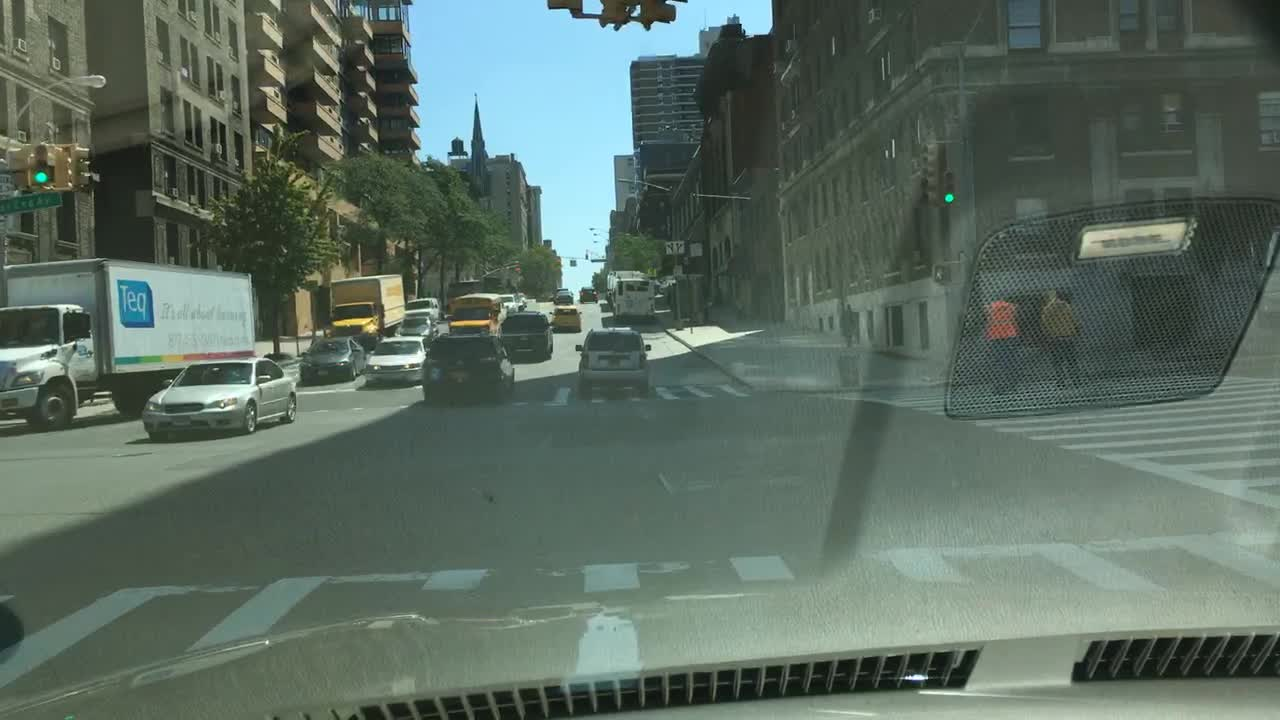bus: (607, 268, 653, 321)
car: (140, 357, 298, 440), (574, 328, 653, 393), (300, 335, 366, 385), (365, 337, 430, 385), (499, 310, 553, 358), (400, 316, 438, 338), (550, 307, 582, 333), (405, 297, 439, 313), (502, 292, 517, 314)
person: (981, 293, 1024, 396), (1041, 288, 1084, 391)
traffic light: (30, 140, 57, 188), (67, 146, 93, 190), (918, 143, 936, 205), (639, 0, 677, 28), (601, 0, 632, 25), (941, 168, 958, 206), (547, 0, 582, 16)
traffic sign: (0, 194, 63, 217), (672, 239, 685, 253), (665, 240, 674, 253)
truck: (0, 257, 256, 432), (420, 333, 514, 400), (331, 273, 404, 334), (448, 289, 501, 332), (579, 286, 598, 302), (553, 287, 570, 304)
